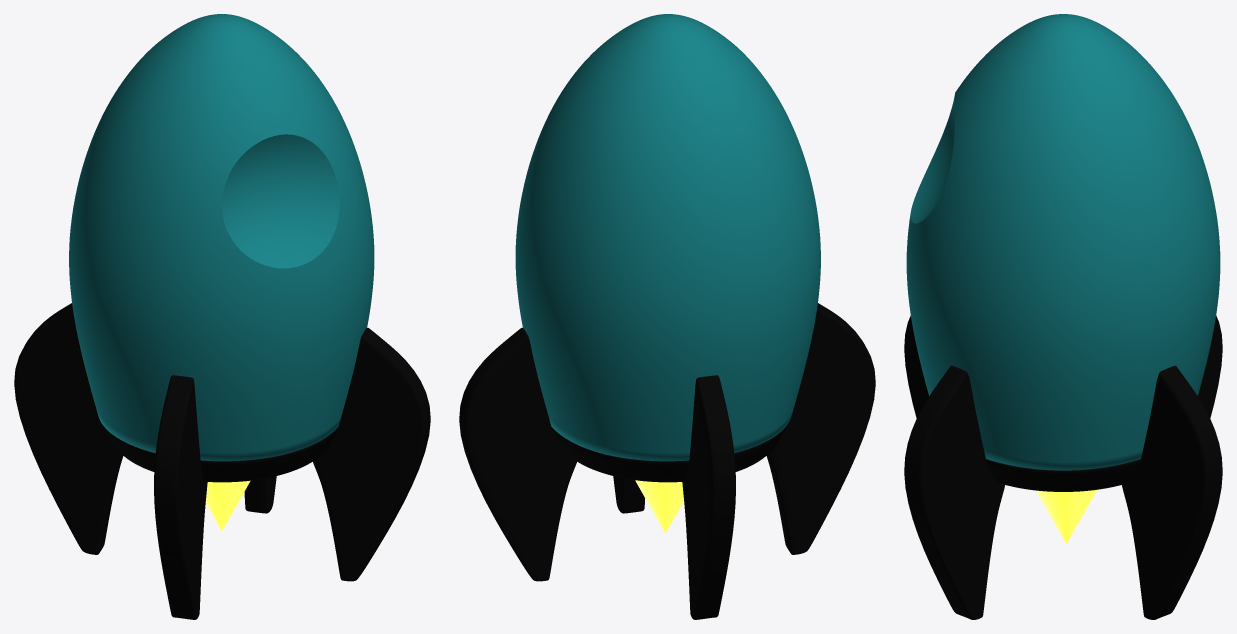
The model's file is rocket-v1.glb.
3 renders of one model, left to right at view 1: azimuth 30°, elevation 25°; view 2: azimuth 150°, elevation 25°; view 3: azimuth 270°, elevation 25°, orthographic. The views are drawn at different scales.
Parts seen in each view (by area): view 1: Body, Wings, Cone; view 2: Body, Wings, Cone; view 3: Body, Wings, Cone.
Part boxes in pixels (x1,y1,x2,y2): Body: (69, 14, 374, 461); Wings: (14, 303, 430, 619); Cone: (205, 480, 250, 531); Body: (515, 14, 820, 461); Wings: (459, 303, 875, 619); Cone: (635, 480, 683, 533); Body: (906, 14, 1220, 470); Wings: (904, 315, 1222, 619); Cone: (1036, 490, 1096, 543).
Size of the model in its own units: 32.28 by 60.85 by 31.62.
